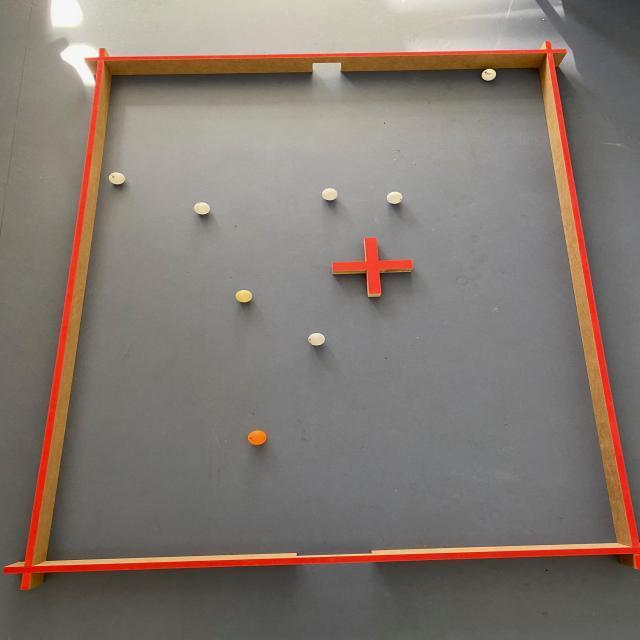orange-golf-balls: (244, 428, 272, 448)
white-golf-balls: (304, 330, 332, 350), (478, 64, 502, 84), (318, 185, 342, 205), (192, 200, 214, 220), (234, 286, 256, 306), (384, 190, 408, 208), (106, 170, 127, 187)
